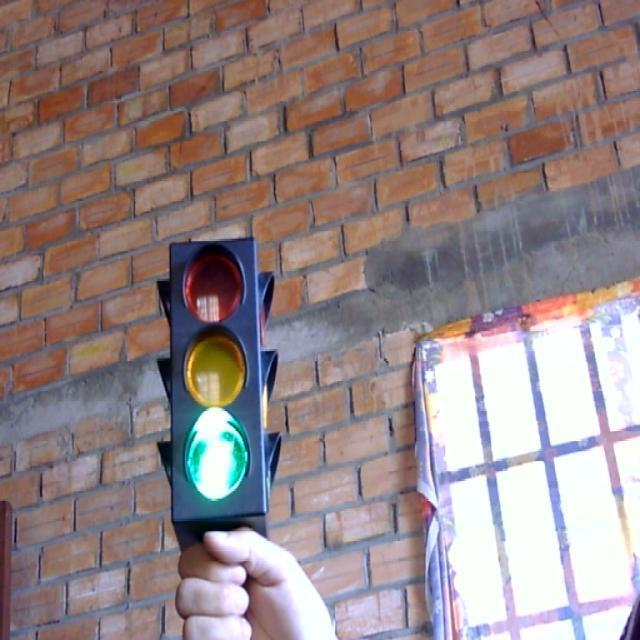green_light: (156, 228, 274, 528)
